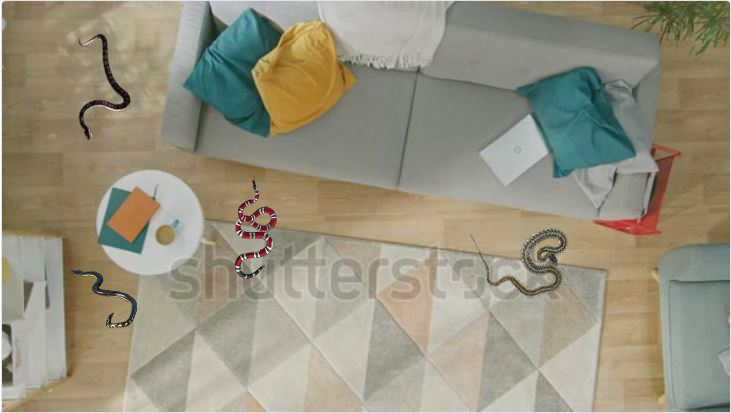snake: (465, 227, 568, 298), (73, 32, 133, 141), (232, 173, 278, 279), (67, 265, 138, 330)
